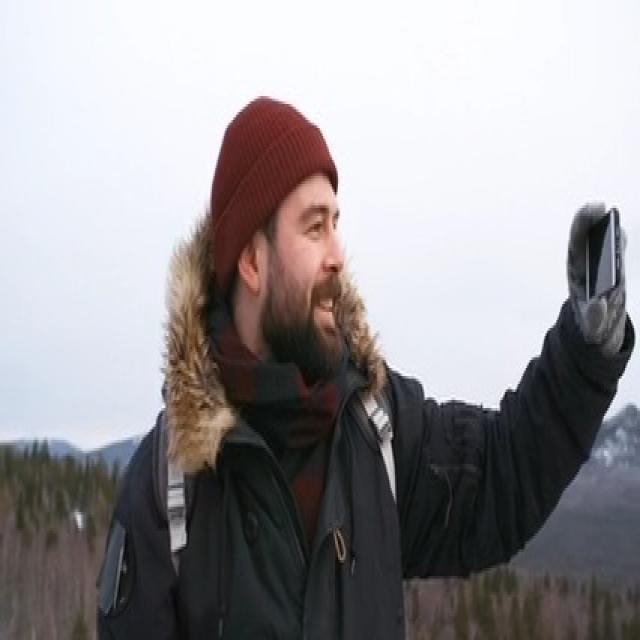Jacket_Wearer: (90, 273, 640, 640)
Person: (92, 95, 640, 640)
